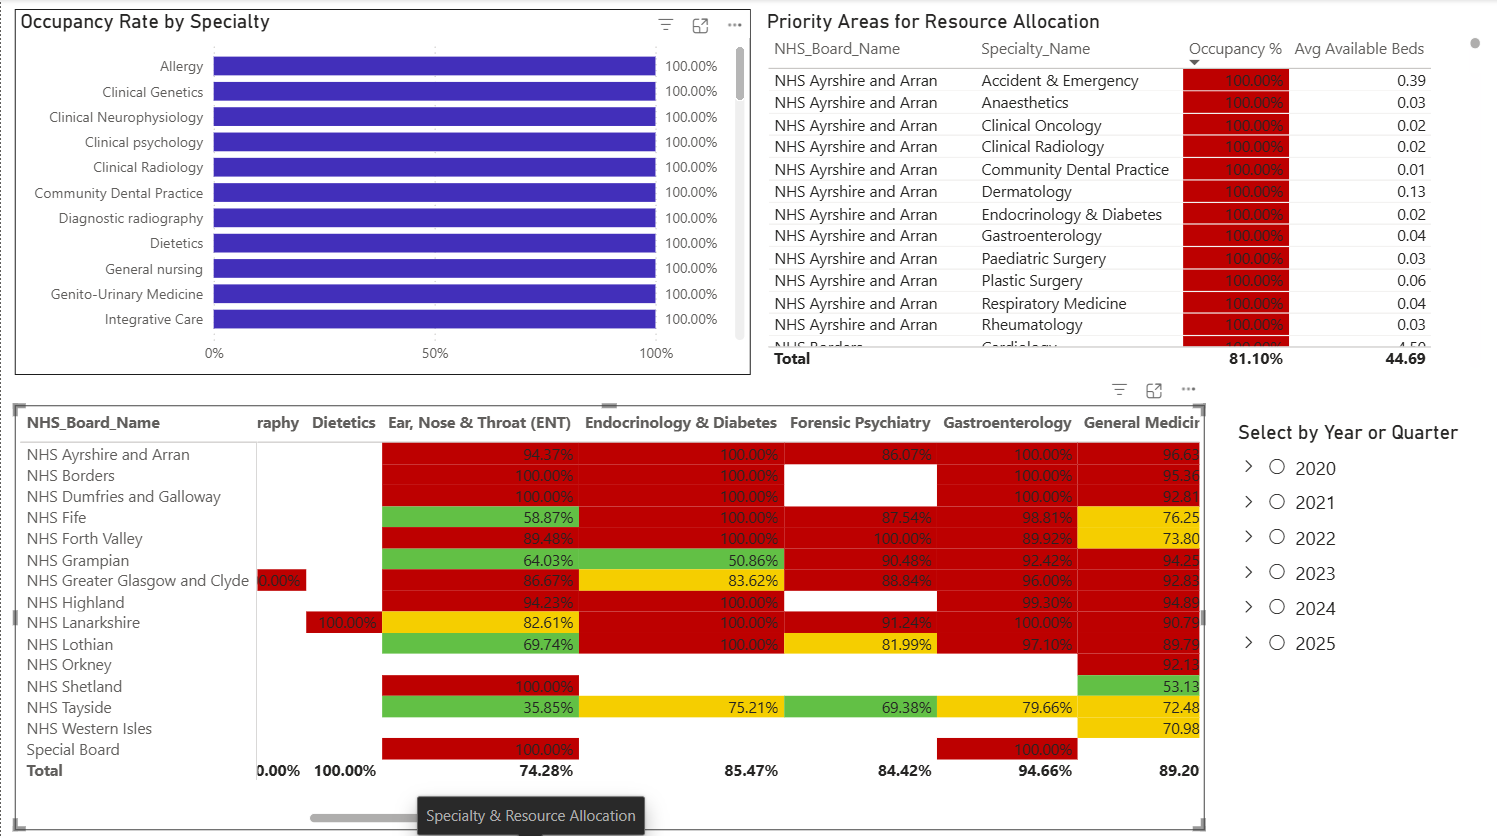

The dashboard page shown, as its layout file describes it:
{"tool":"powerbi","page":{"name":"Specialty & Resource Allocation","canvas":[1280,720],"ordinal":2},"visuals":[{"type":"clusteredBarChart","title":"Occupancy Rate by Specialty","fields":{"Y":["analytics beds_clean.Occupancy %"],"Category":["analytics dim_specialty.Specialty_Name"]},"box":[12,9,628.1,311.8],"z":0},{"type":"pivotTable","fields":{"Rows":["analytics dim_nhs_board.NHS_Board_Name"],"Values":["analytics beds_clean.Occupancy %"],"Columns":["analytics dim_specialty.Specialty_Name"]},"box":[11.3,347.1,1016.2,362.2],"z":1000},{"type":"tableEx","title":"Priority Areas for Resource Allocation","fields":{"Values":["analytics dim_nhs_board.NHS_Board_Name","analytics dim_specialty.Specialty_Name","analytics beds_clean.Occupancy %","analytics beds_clean.Avg Available Beds"]},"box":[649.2,9,619.1,311.8],"z":2000},{"type":"listSlicer","title":"Select by Year or Quarter","fields":{"Values":["analytics beds_clean.Quarter_Start_Date.Variation.Date Hierarchy.Year","analytics beds_clean.Quarter_Start_Date.Variation.Date Hierarchy.Quarter"]},"box":[1051.4,360,207.9,337.4],"z":2001}]}

Visuals, with their boxes in screenshot pixels (x1, y1, x2, y2), scaled from the page's 1280x720 canvas onto the 1497x836 screenshot:
"Occupancy Rate by Specialty" clusteredBarChart: box=[14, 10, 749, 372]
pivotTable - analytics dim_nhs_board.NHS_Board_Name x analytics beds_clean.Occupancy %: box=[13, 403, 1202, 824]
"Priority Areas for Resource Allocation" tableEx: box=[759, 10, 1483, 372]
"Select by Year or Quarter" listSlicer: box=[1230, 418, 1473, 810]
